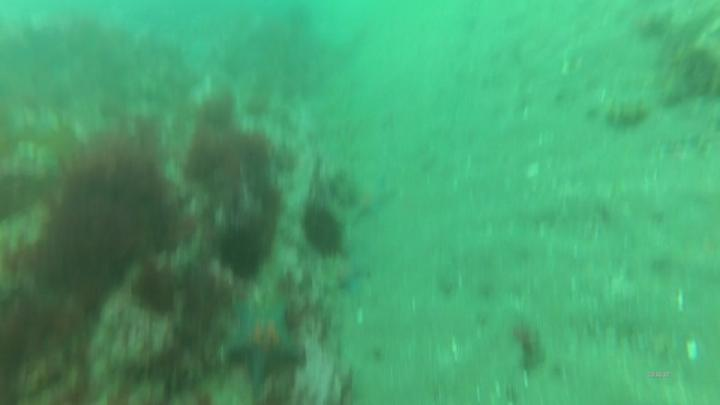echinus: (208, 218, 272, 288), (301, 201, 353, 265)
holothurian: (605, 98, 653, 128)
starfish: (223, 301, 311, 383), (344, 174, 402, 230), (331, 257, 374, 299)
